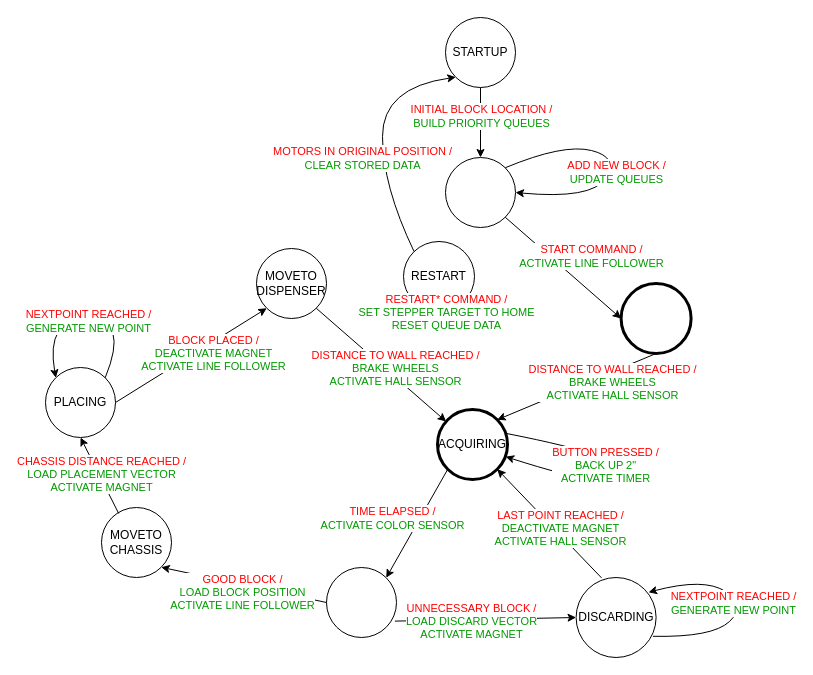
Image size: 813x675. Some labels were removed from this diagram. Each missing label, with the box of its shape:
DETECTING: (326, 566, 396, 638)
EXITING: (619, 282, 692, 354)
SETUP: (444, 156, 516, 228)
